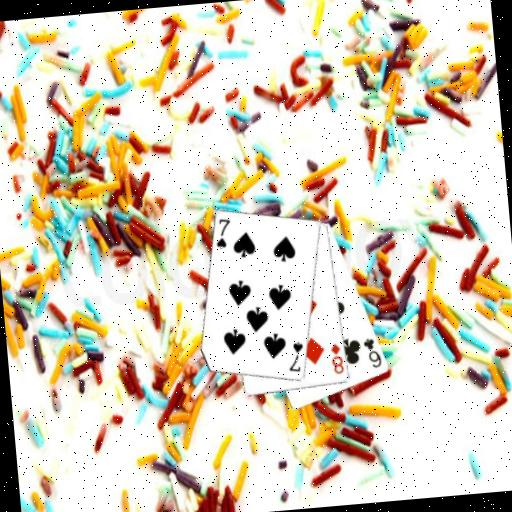6C: (361, 335, 384, 371)
7S: (284, 338, 307, 375), (211, 216, 234, 252)
8D: (327, 340, 345, 376)
